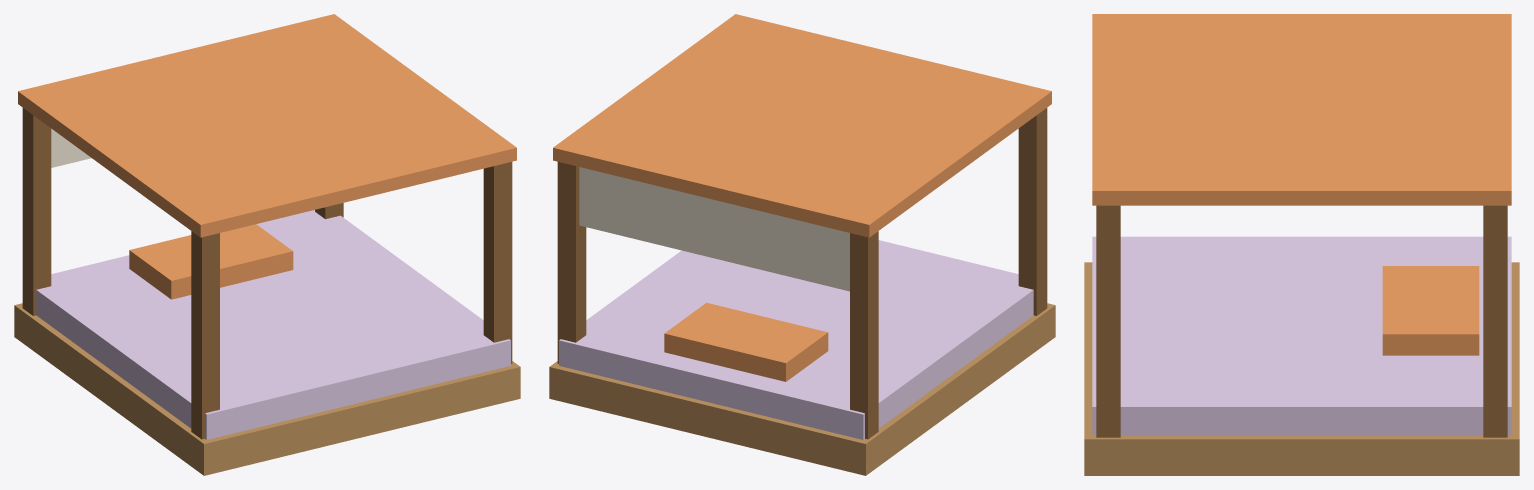
The model's file is canopy_bed.glb.
3 renders of one model, left to right at view 1: azimuth 30°, elevation 25°; view 2: azimuth 150°, elevation 25°; view 3: azimuth 270°, elevation 25°, orthographic. The views are drawn at different scales.
Visible parts, largest first — view 1: canopy_bed; view 2: canopy_bed; view 3: canopy_bed.
Boxes of the visible parts, box(x1,y1,x2,y2) form: canopy_bed: box(14, 14, 520, 475); canopy_bed: box(549, 14, 1055, 475); canopy_bed: box(1084, 14, 1519, 475).
Size of the model in its own units: 52 by 39 by 54.
